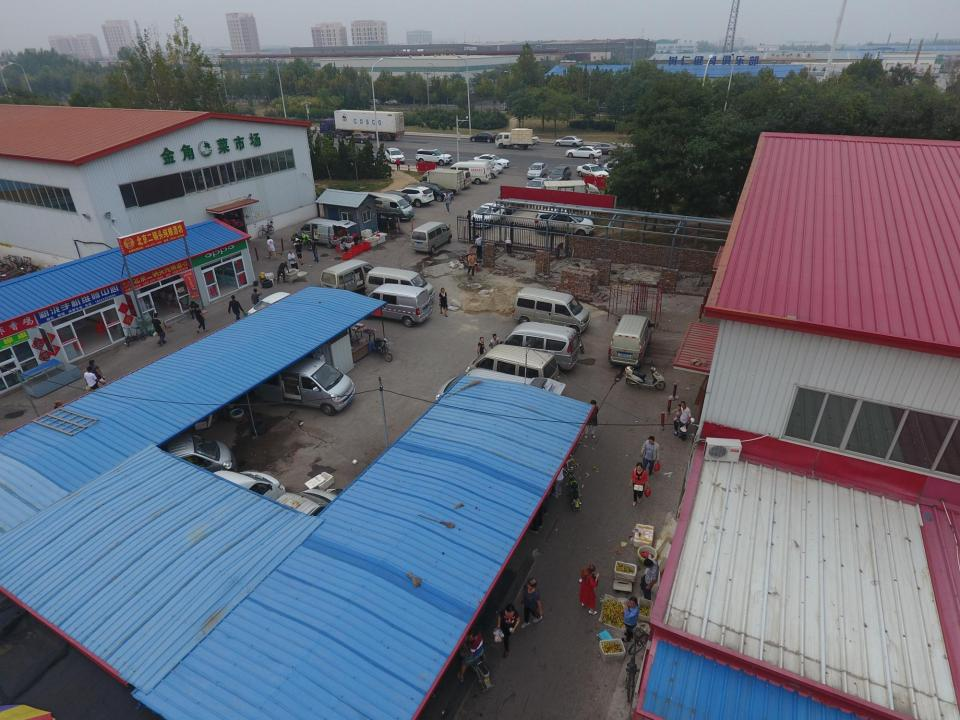car: (246, 291, 306, 327), (533, 208, 595, 238), (469, 203, 506, 228), (392, 185, 434, 207), (411, 182, 453, 202), (371, 191, 412, 210), (494, 192, 528, 213), (416, 148, 452, 166), (576, 163, 610, 181), (602, 160, 638, 176), (467, 159, 504, 174), (473, 154, 510, 169), (503, 130, 539, 144), (524, 177, 550, 195), (546, 166, 572, 184), (586, 142, 622, 155), (565, 146, 602, 158), (355, 147, 378, 164), (526, 162, 548, 179), (554, 135, 584, 147), (385, 147, 405, 164), (470, 132, 497, 142), (346, 133, 372, 143)
truck: (319, 109, 405, 140), (544, 180, 601, 209), (419, 168, 464, 195), (495, 132, 537, 150)
van: (91, 432, 236, 518), (153, 471, 286, 561), (227, 489, 347, 567), (434, 368, 566, 427), (254, 355, 356, 416), (464, 344, 560, 392), (499, 322, 580, 374), (512, 288, 590, 336), (360, 284, 432, 328), (364, 266, 435, 308), (608, 314, 655, 368), (320, 258, 379, 298), (356, 192, 414, 222), (298, 219, 356, 248), (410, 222, 452, 253), (448, 161, 491, 184), (433, 169, 472, 189), (466, 160, 498, 178)
